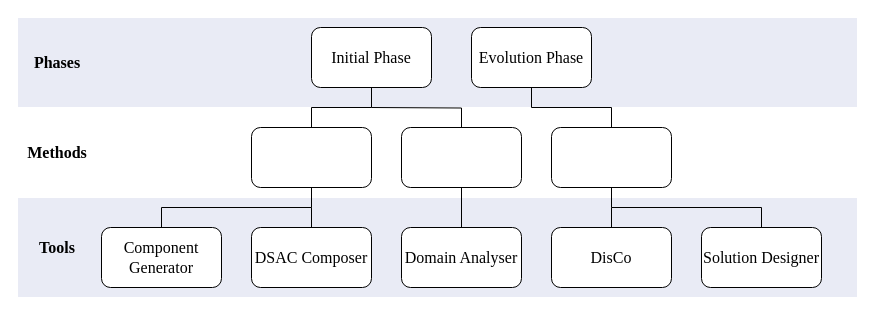
The diagram is 875 pixels wide and 315 high, and some of its shapes have lost their labels. The shapes that lost their labels are listed below. From the top down, each one's centre as x and y in pixels, then its label:
At (x=311, y=157): "Model-driven Composition Development".
At (x=461, y=157): "Ontology-based Platform Development".
At (x=611, y=157): "Conversational-based Discovery and Composition".
